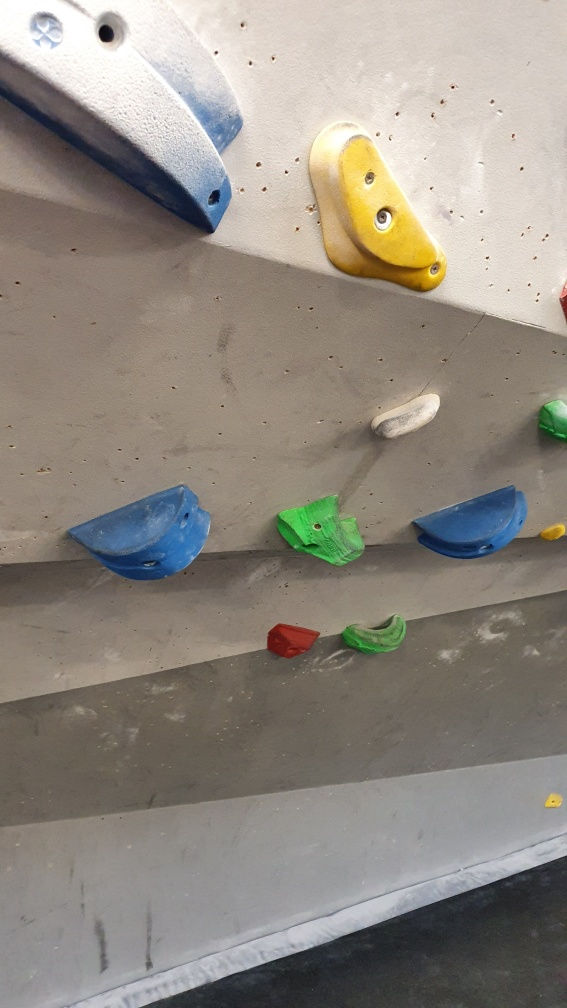Jug: (269, 496, 368, 573), (363, 389, 444, 450), (336, 609, 415, 659)
Pinch: (1, 1, 251, 242), (61, 480, 216, 587), (409, 479, 529, 563)
